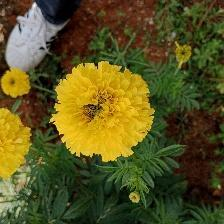marigold: (51, 60, 158, 166)
